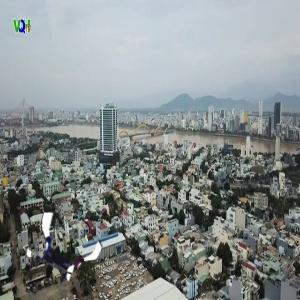drone: (27, 212, 105, 290)
